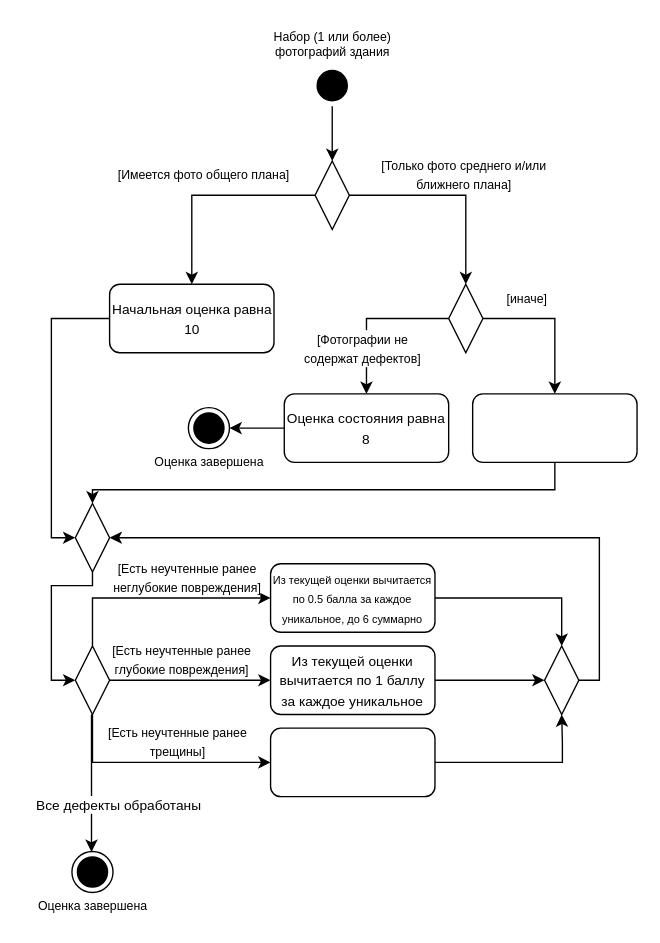
Some shapes in this 660 by 943 pixel diagram are drawn without their labels. The shapes that lost their labels are listed below. From the top down, each one's box as (x1, y1, x2, y2) in pixels, then its label:
(471, 393, 637, 462): Начальная оценка состояния равна 6
(269, 727, 435, 797): Из текущей оценки вычитается по 0.5 балла за каждую уникальную, до 4 суммарно
